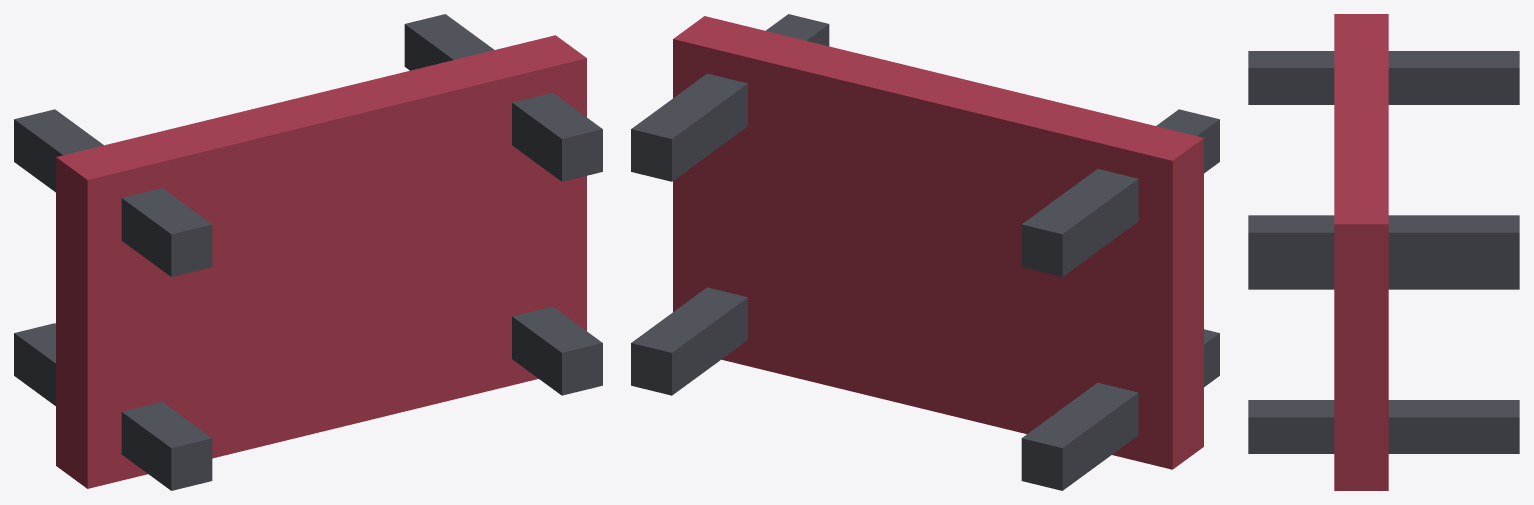
The model's file is counter_v01.glb.
3 renders of one model, left to right at view 1: azimuth 30°, elevation 25°; view 2: azimuth 150°, elevation 25°; view 3: azimuth 270°, elevation 25°, orthographic. The views are drawn at different scales.
Parts seen in each view (by area): view 1: box_0, box_2, box_4, box_1, box_3; view 2: box_0, box_2, box_4, box_1, box_3; view 3: box_0, box_4, box_2, box_3, box_1.
Part boxes in pixels (x1,y1,x2,y2): box_0: [56, 35, 586, 488]; box_2: [14, 109, 212, 276]; box_4: [404, 14, 602, 181]; box_1: [14, 323, 212, 490]; box_3: [512, 306, 602, 395]; box_0: [673, 16, 1203, 469]; box_2: [1021, 109, 1219, 276]; box_4: [631, 14, 829, 181]; box_1: [1021, 329, 1219, 490]; box_3: [631, 287, 747, 395]; box_0: [1334, 14, 1388, 490]; box_4: [1248, 215, 1519, 269]; box_2: [1248, 51, 1519, 104]; box_3: [1248, 400, 1519, 453]; box_1: [1248, 269, 1519, 289].
Size of the model in its own units: 1.1 by 0.65 by 0.6.
